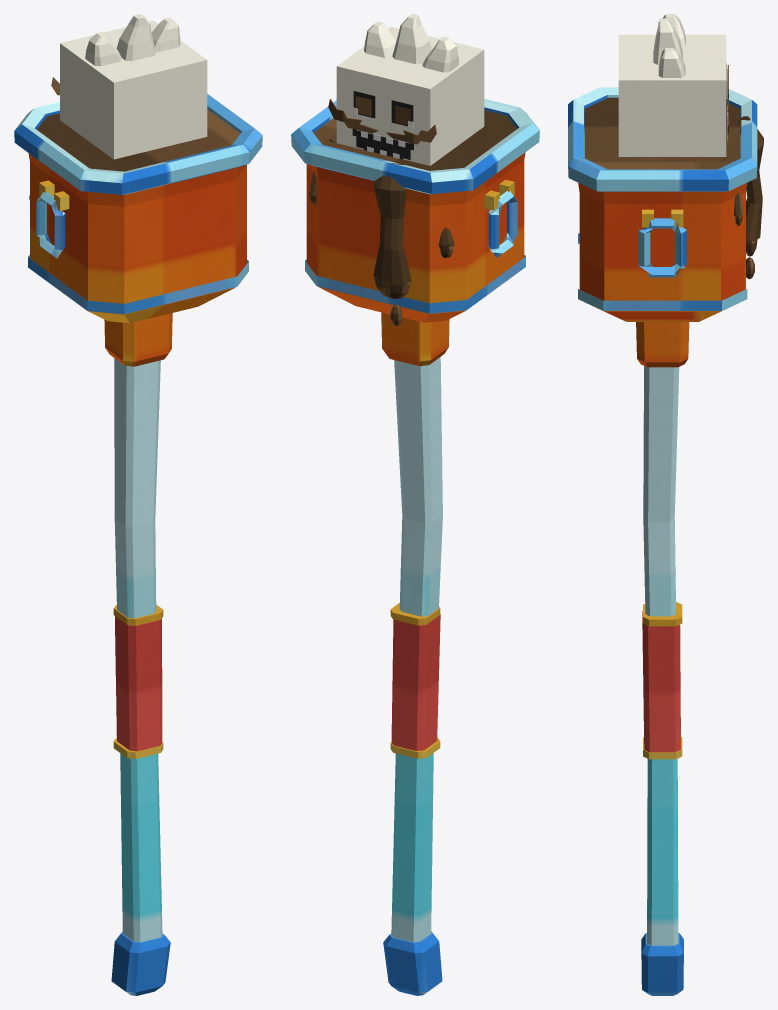
The model's file is furnace_staff_electro.obj.
3 views of the same model, side by side, from view 1: azimuth 30°, elevation 25°; view 2: azimuth 150°, elevation 25°; view 3: azimuth 270°, elevation 25° (orthographic).
Parts seen in each view (by area): view 1: forged_square_cauldron, wooden_shaft, emerging_voxel_body, thick_square_rim, leather_grip, EM_elemental_pool, iron_foot_ferrule, neck_ferrule, lower_iron_binding, emerging_violet_tuft_middle, iron_side_loop_-1, emerging_violet_tuft_left (+1 smaller); view 2: forged_square_cauldron, wooden_shaft, emerging_voxel_body, thick_square_rim, leather_grip, EM_overflow_0, EM_elemental_pool, iron_foot_ferrule, neck_ferrule, lower_iron_binding, emerging_violet_tuft_middle, iron_side_loop_-1 (+3 smaller); view 3: forged_square_cauldron, wooden_shaft, emerging_voxel_body, thick_square_rim, leather_grip, EM_elemental_pool, neck_ferrule, iron_foot_ferrule, lower_iron_binding, iron_side_loop_1, EM_overflow_0, emerging_violet_tuft_middle (+2 smaller).
Part boxes in pixels (box(x1,y1,x2,y2)): forged_square_cauldron: box(28, 153, 246, 323); wooden_shaft: box(114, 358, 162, 942); emerging_voxel_body: box(60, 20, 207, 159); thick_square_rim: box(14, 94, 262, 194); leather_grip: box(115, 616, 162, 751); EM_elemental_pool: box(37, 109, 240, 171); iron_foot_ferrule: box(111, 931, 170, 995); neck_ferrule: box(104, 313, 172, 366); lower_iron_binding: box(28, 255, 248, 314); emerging_violet_tuft_middle: box(116, 14, 155, 61); iron_side_loop_-1: box(36, 191, 65, 258); emerging_violet_tuft_left: box(85, 32, 121, 66); forged_square_cauldron: box(306, 152, 525, 322); wooden_shaft: box(391, 357, 442, 942); emerging_voxel_body: box(336, 27, 484, 165); thick_square_rim: box(291, 99, 539, 194); leather_grip: box(391, 614, 440, 750); EM_overflow_0: box(373, 163, 411, 285); EM_elemental_pool: box(313, 110, 516, 170); iron_foot_ferrule: box(383, 931, 442, 995); neck_ferrule: box(381, 312, 449, 365); lower_iron_binding: box(305, 255, 525, 313); emerging_violet_tuft_middle: box(392, 14, 431, 64); iron_side_loop_-1: box(488, 191, 517, 257); forged_square_cauldron: box(578, 183, 746, 321); wooden_shaft: box(643, 366, 679, 945); emerging_voxel_body: box(618, 34, 726, 156); thick_square_rim: box(568, 87, 757, 191); leather_grip: box(642, 611, 680, 752); EM_elemental_pool: box(585, 97, 740, 169); neck_ferrule: box(636, 322, 689, 367); iron_foot_ferrule: box(641, 933, 683, 995); lower_iron_binding: box(578, 233, 747, 310); iron_side_loop_1: box(638, 218, 686, 277); EM_overflow_0: box(737, 116, 763, 241); emerging_violet_tuft_middle: box(653, 18, 682, 64).
Size of the model in its own units: 0.5475 by 2.74 by 0.5006.
